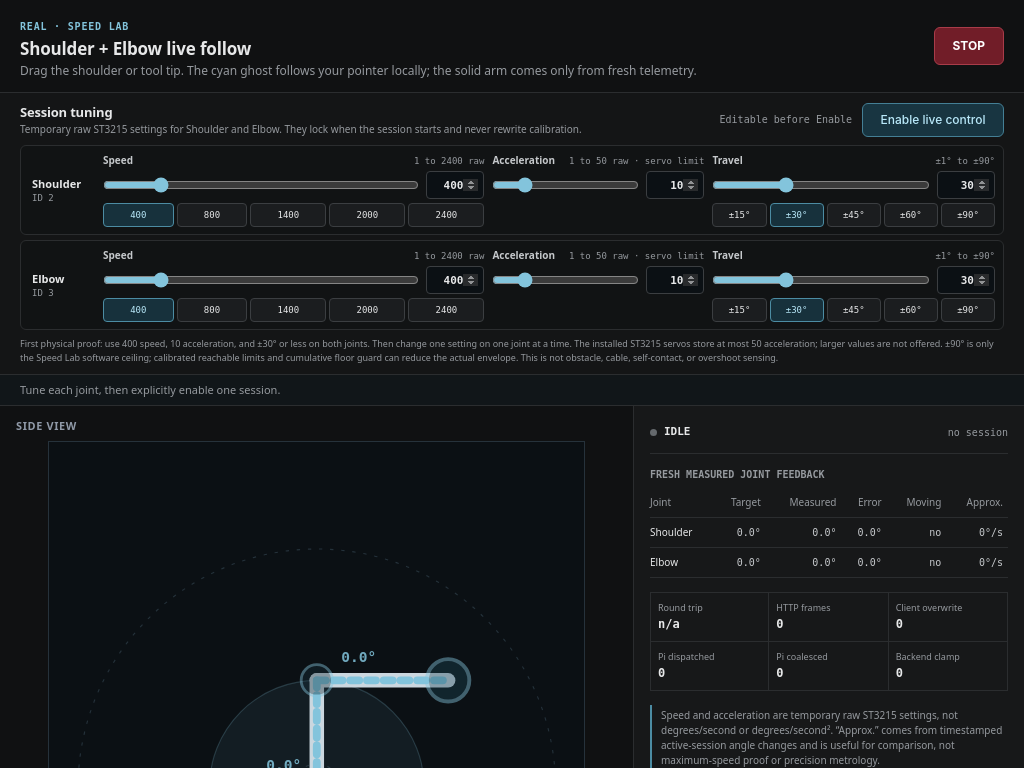
Test case: ArmLiveFollow › shows a heartbeat deadline failure, ends once, and never retries ambiguous input
Click the button "Enable live control": (933, 120) [862,103,1004,137]
Wait 1350 ms
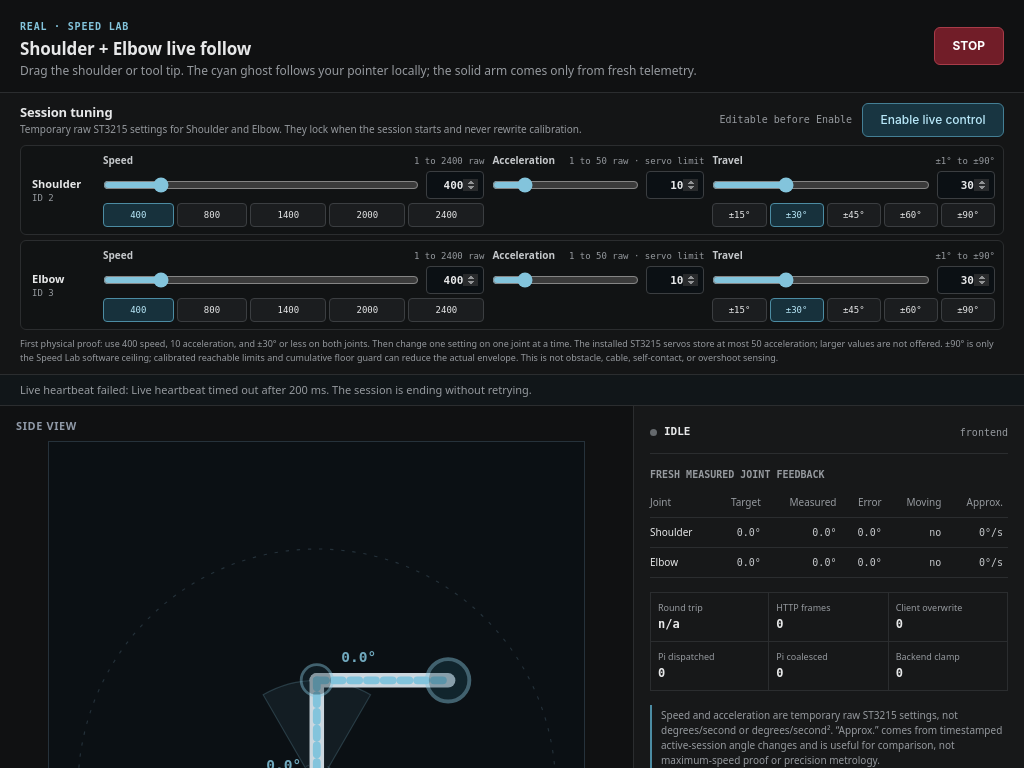
Expected: the text "LIVE: release flushes" is shown, [0,375,1023,406]
Now the text "Live heartbeat failed: Live heartbeat timed out after 200 ms" is shown, box [20,382,532,397]
